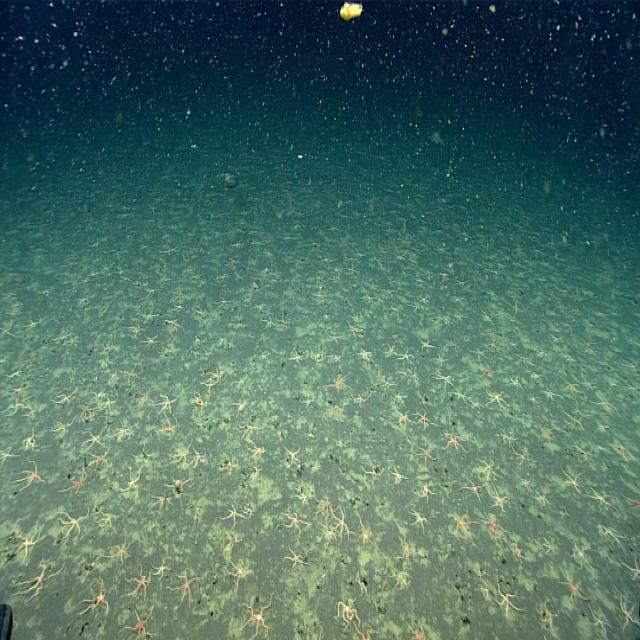brittle-stars: (242, 597, 274, 640), (493, 575, 521, 621), (17, 567, 57, 596), (83, 579, 111, 620), (122, 607, 155, 640), (447, 509, 477, 545), (336, 591, 360, 630), (560, 570, 588, 603), (173, 570, 196, 610), (59, 509, 88, 539), (16, 464, 47, 491), (127, 571, 153, 603), (226, 558, 254, 586), (483, 514, 506, 548), (284, 539, 306, 573), (17, 529, 40, 561), (618, 597, 640, 630), (221, 500, 246, 528), (561, 467, 583, 498), (354, 516, 374, 550), (408, 506, 432, 534), (619, 554, 640, 586), (335, 506, 350, 550), (590, 485, 614, 512), (109, 538, 131, 566), (488, 485, 510, 513), (397, 532, 414, 568), (484, 387, 507, 412), (88, 446, 111, 470), (112, 418, 135, 442), (151, 488, 173, 513), (328, 369, 349, 395), (124, 467, 141, 499), (66, 467, 85, 495), (280, 444, 301, 469), (590, 609, 609, 636), (130, 388, 153, 410), (285, 508, 303, 536), (478, 455, 498, 480), (51, 417, 76, 437), (20, 428, 40, 453), (445, 428, 464, 454), (158, 418, 180, 440), (432, 368, 454, 390), (98, 508, 119, 531), (538, 534, 558, 558), (189, 388, 209, 412), (467, 344, 490, 364), (171, 445, 189, 470), (152, 555, 168, 583), (396, 345, 416, 367), (158, 392, 176, 416), (464, 475, 481, 500), (191, 447, 208, 472), (0, 443, 20, 464), (318, 491, 333, 519), (84, 429, 105, 449), (390, 466, 408, 489), (288, 346, 304, 371), (247, 441, 266, 462), (127, 321, 144, 344), (417, 445, 436, 465), (417, 332, 436, 352), (414, 409, 431, 431), (507, 372, 523, 395), (381, 339, 397, 362), (541, 384, 557, 406), (124, 364, 138, 389), (142, 305, 158, 326), (80, 402, 95, 424), (102, 393, 115, 418), (325, 328, 342, 347), (56, 391, 76, 407), (381, 371, 396, 392), (262, 312, 277, 333), (142, 332, 159, 350), (561, 378, 578, 396), (355, 387, 368, 410), (356, 346, 373, 363), (215, 296, 233, 311), (165, 318, 182, 332)
